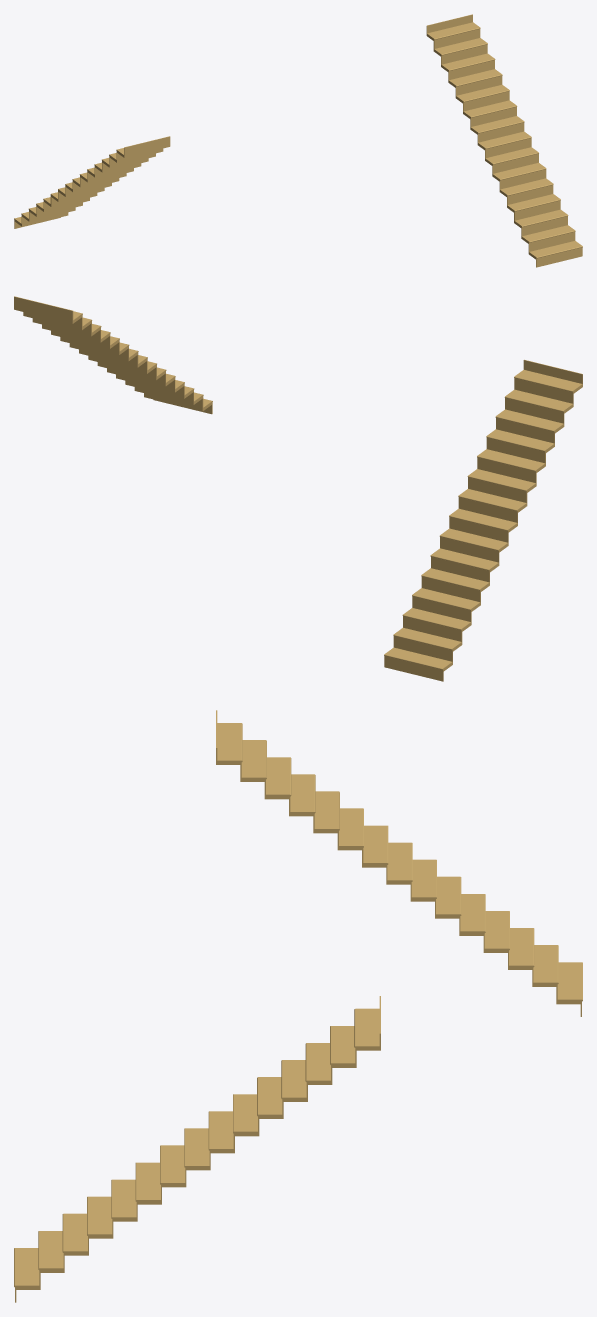
The model's file is IfcStairFlight.fbx.
The picture shows the model from 3 angles, top to bottom: view 1: azimuth 30°, elevation 25°; view 2: azimuth 150°, elevation 25°; view 3: azimuth 270°, elevation 25°; orthographic projection. The views are drawn at different scales.
Parts seen in each view (by area): view 1: Stair:151086 (×31), Stair:198878; view 2: Stair:198878 (×31), Stair:151086; view 3: Stair:151086 (×15), Stair:198878 (×15).
Part boxes in pixels (x1,y1,x2,y2): Stair:151086 (×31): (426,14,582,267); Stair:198878: (124,136,170,157); Stair:198878 (×31): (384,359,582,681); Stair:151086: (14,296,73,323); Stair:151086 (×15): (14,1008,379,1289); Stair:198878 (×15): (217,723,582,1004).
Bounding box in the file's own units: 7.87 × 5.85 × 3.05.
